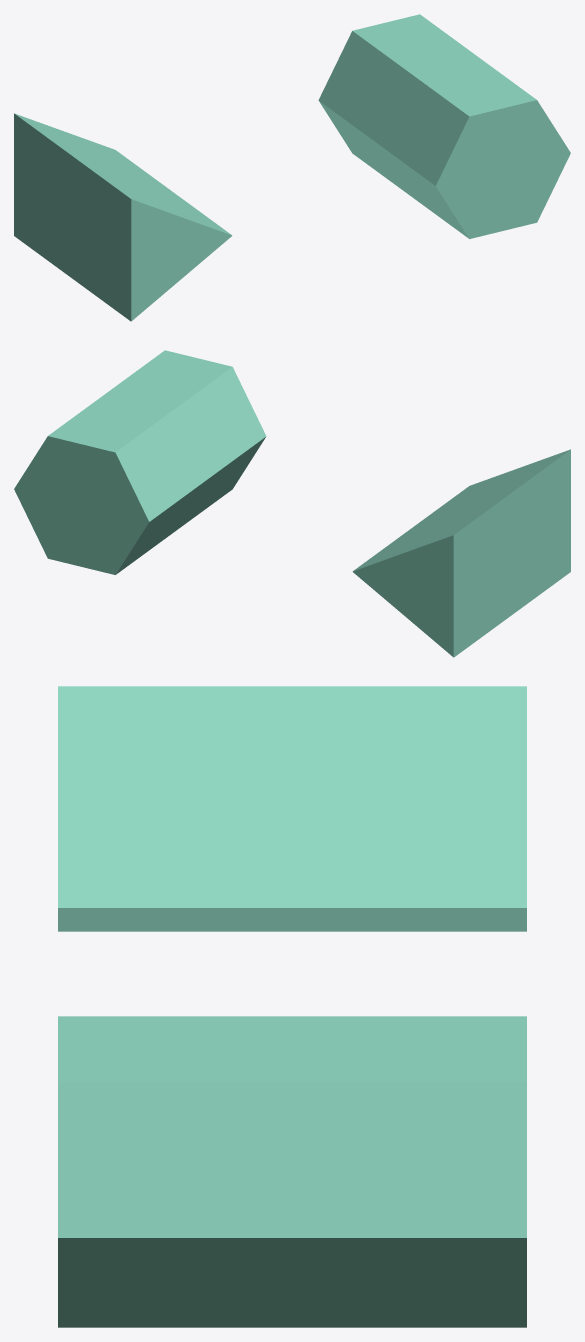
Rendered from prisms.glb.
The picture shows the model from 3 angles, top to bottom: view 1: azimuth 30°, elevation 25°; view 2: azimuth 150°, elevation 25°; view 3: azimuth 270°, elevation 25°; orthographic projection. The views are drawn at different scales.
Parts seen in each view (by area): view 1: world; view 2: world; view 3: world.
Part boxes in pixels (x1,y1,x2,y2): world: [14, 14, 570, 321]; world: [14, 350, 570, 657]; world: [58, 686, 526, 1327].
Size of the model in its own units: 6.5 by 1.73 by 3.
